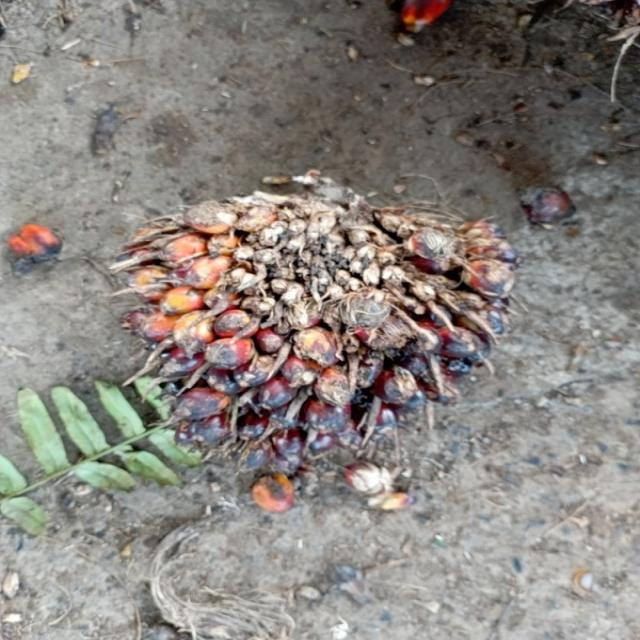fraksi 00: (119, 185, 516, 472)
